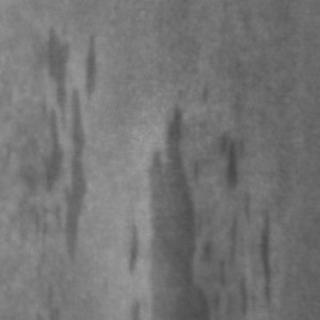inclusion: (120, 98, 224, 318), (17, 20, 98, 272), (200, 190, 272, 318), (212, 125, 248, 192)
